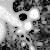node: (26, 8, 43, 22), (24, 23, 33, 31)
